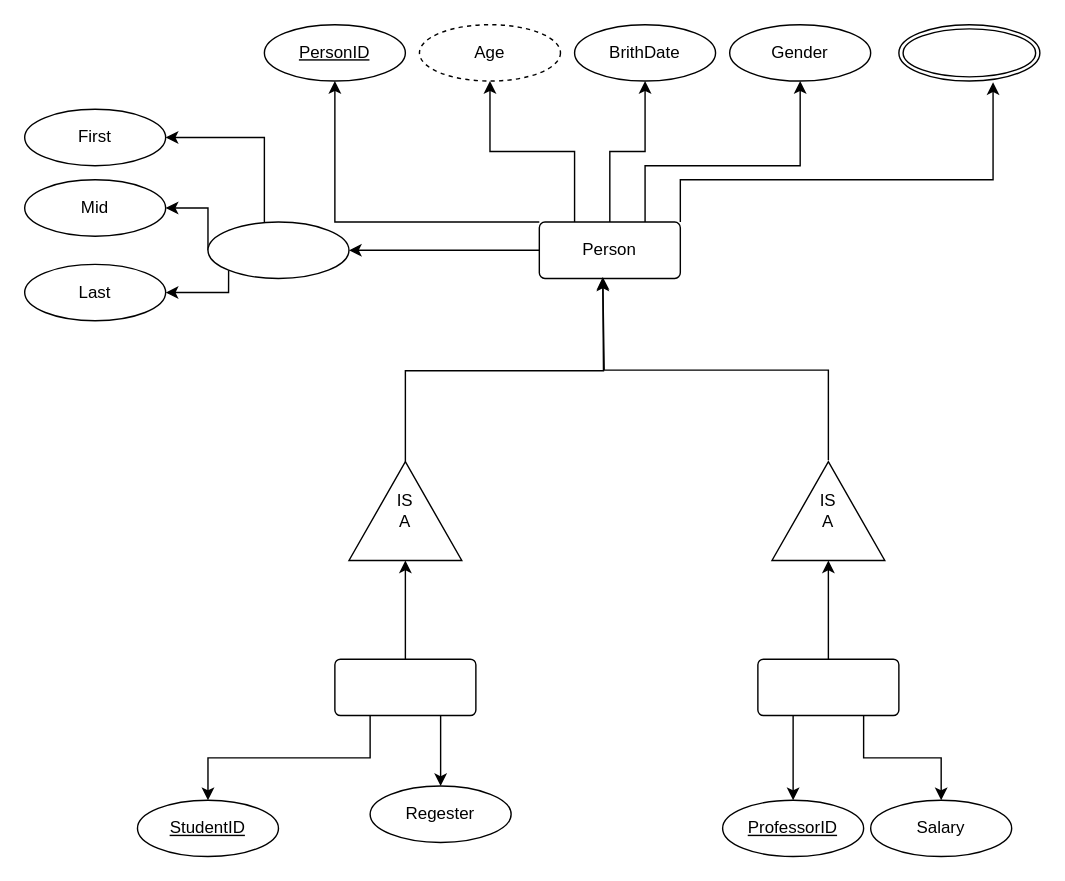
Some shapes in this 1065 by 881 pixel diagram are drawn without their labels. Each missing label, with the centre of its shape:
(Attribute): the point at 278,249
Phone: the point at 968,52
Professor: the point at 827,687
Student: the point at 404,687
